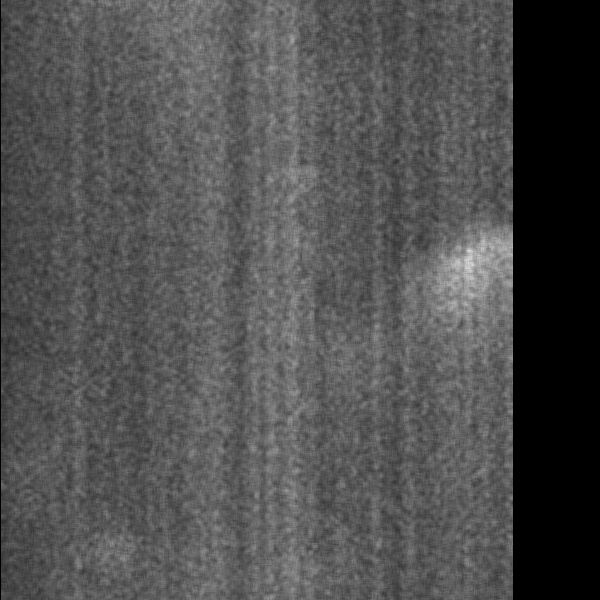spark: (437, 227, 513, 398), (82, 532, 137, 563)
